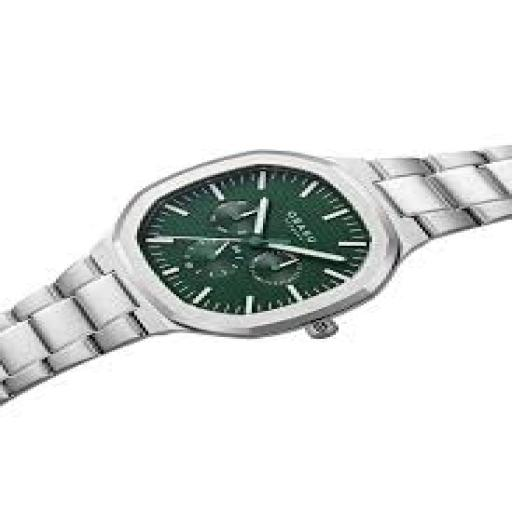KolSaati: (1, 97, 512, 444)
